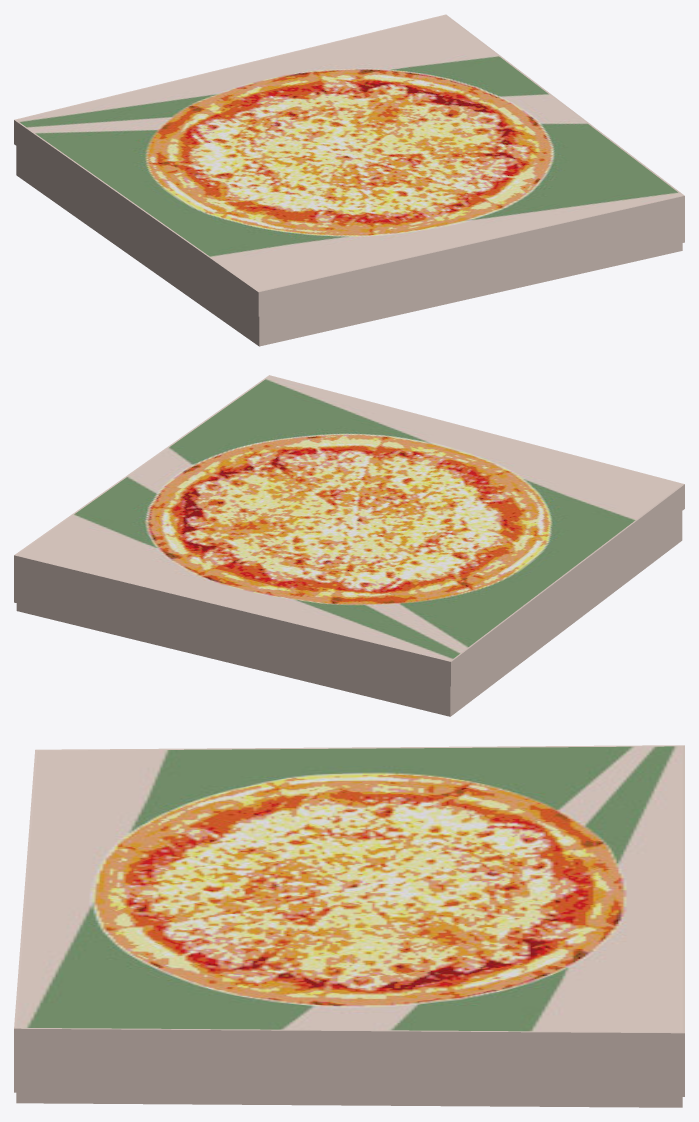
The model's file is PizzaBox.glb.
3 renders of one model, top to bottom at view 1: azimuth 30°, elevation 25°; view 2: azimuth 150°, elevation 25°; view 3: azimuth 270°, elevation 25°, orthographic. The views are drawn at different scales.
Parts seen in each view (by area): view 1: Cube; view 2: Cube; view 3: Cube.
Part boxes in pixels (bbox=[...]): Cube: bbox=[14, 14, 684, 346]; Cube: bbox=[14, 375, 684, 716]; Cube: bbox=[14, 745, 684, 1107].
Bounding box in the file's own units: 0.3275 × 0.0401 × 0.3224.
Materials: 2 (1 with a texture image).
